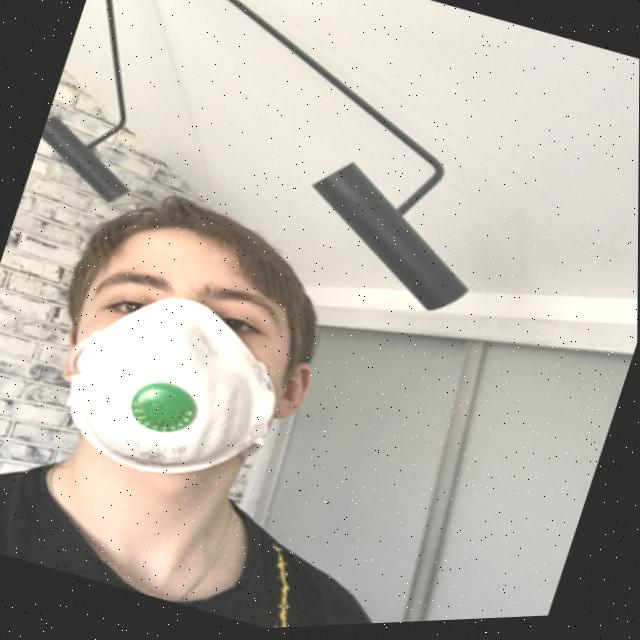Mask: (19, 268, 324, 522)
